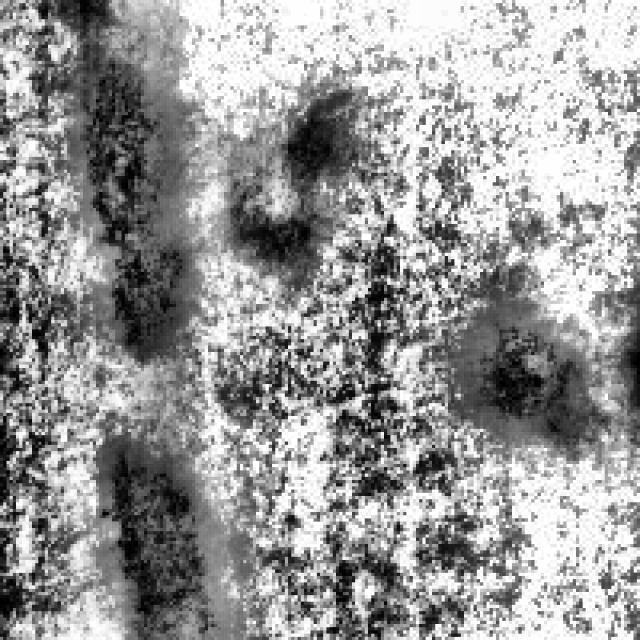Scratches: (67, 42, 189, 348), (93, 432, 221, 637), (218, 80, 346, 266), (438, 291, 592, 432)
